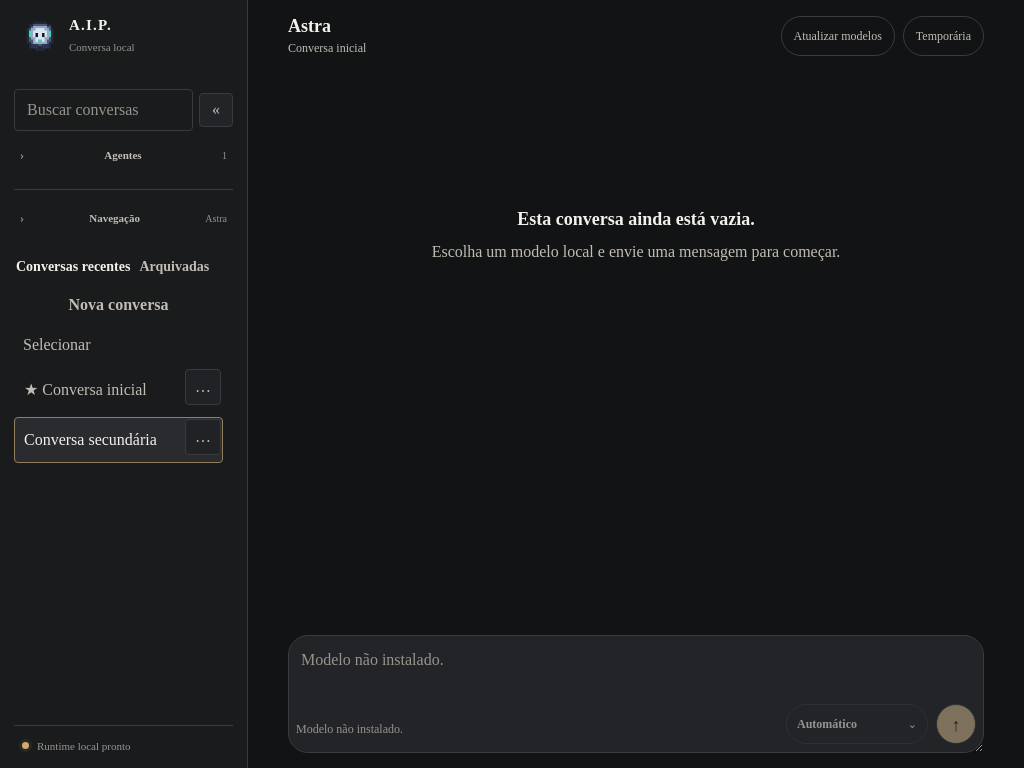
Scenario: App conversation navigation integration › uses the overlay conversation and clears selection when starting a draft
The image size is (1024, 768).
Check: the button with class "conversation-list-select" reads "Conversa secundária", box [15,418,222,462]
What coordinates should you click on to do the following:
click the button with class "conversation-list-create"
I would click on:
 (118, 305)
Its box is [14,287,223,323].
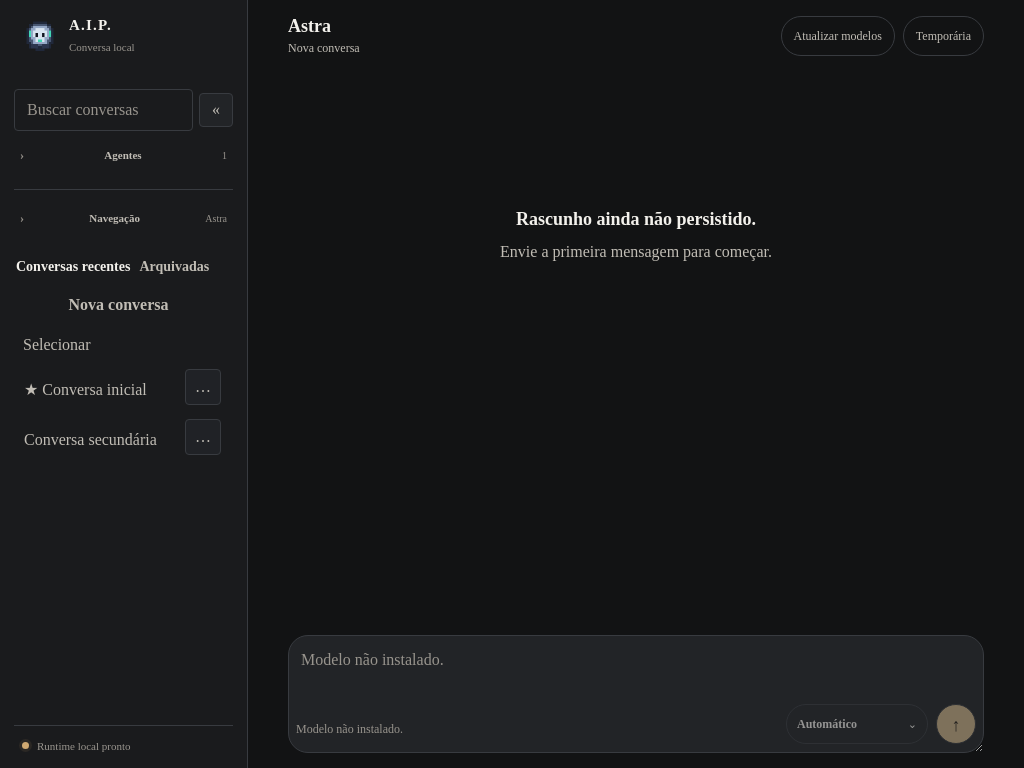
Check: the text "Rascunho ainda não persistido" is shown, box [516,209,756,229]
